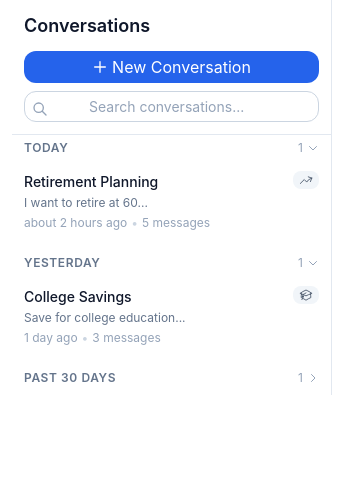
Scenario: ThreadSidebar › renders the sidebar with threads
The image size is (349, 477).
Expected: the heading "Conversations" is shown, [24,12,150,39]
Expected: the heading "Retirement Planning" is shown, [24,173,158,190]
Click the button "Past 30 Days 1" at (70, 378), box [12,365,331,391]
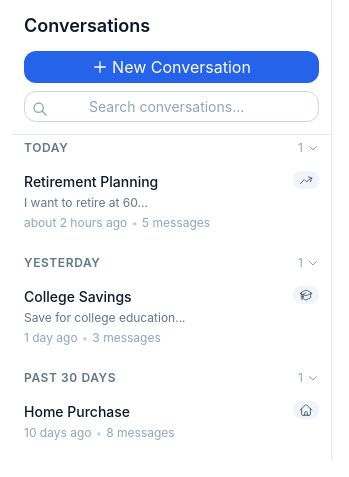
Expected: the heading "Home Purchase" is shown, [24,403,130,420]
